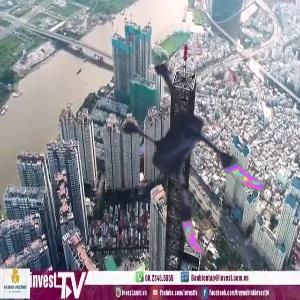drone: (97, 57, 295, 255)
